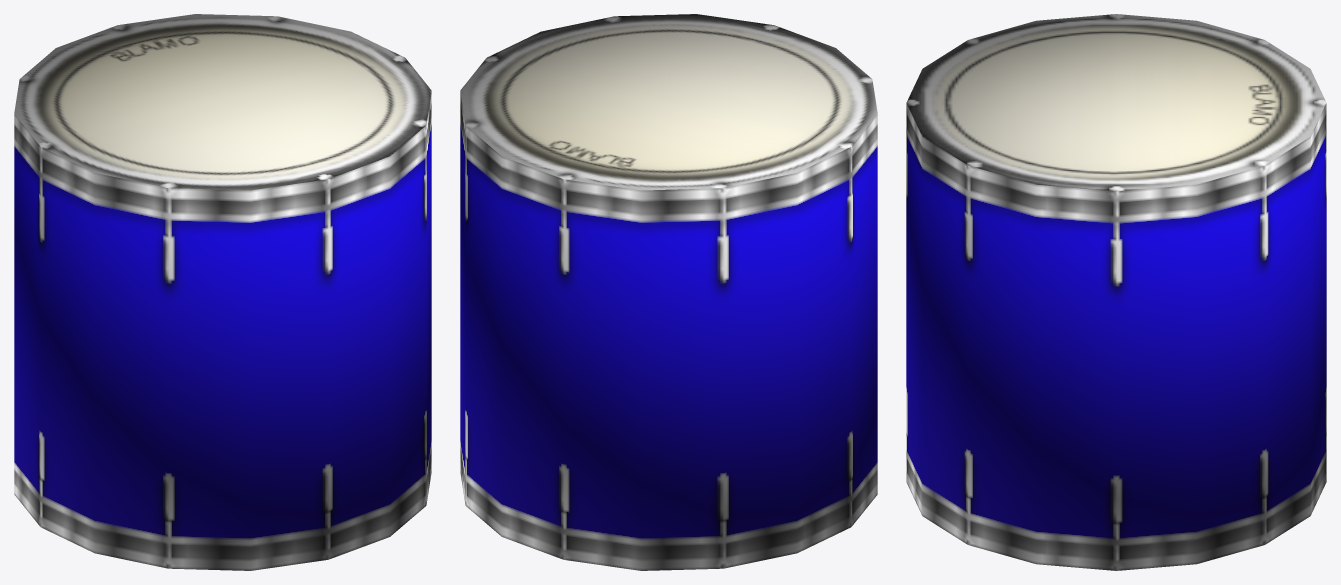
Rendered from DrumSet_Cuica.obj.
3 views of the same model, side by side, from view 1: azimuth 30°, elevation 25°; view 2: azimuth 150°, elevation 25°; view 3: azimuth 270°, elevation 25° (orthographic).
Parts seen in each view (by area): view 1: DrumSet_Tom; view 2: DrumSet_Tom; view 3: DrumSet_Tom.
Part boxes in pixels (left/top/right/bottom): DrumSet_Tom: left=14, top=14, right=431, bottom=570; DrumSet_Tom: left=460, top=14, right=877, bottom=570; DrumSet_Tom: left=906, top=14, right=1326, bottom=570.
Bounding box in the file's own units: 10.04 × 10 × 10.04.
